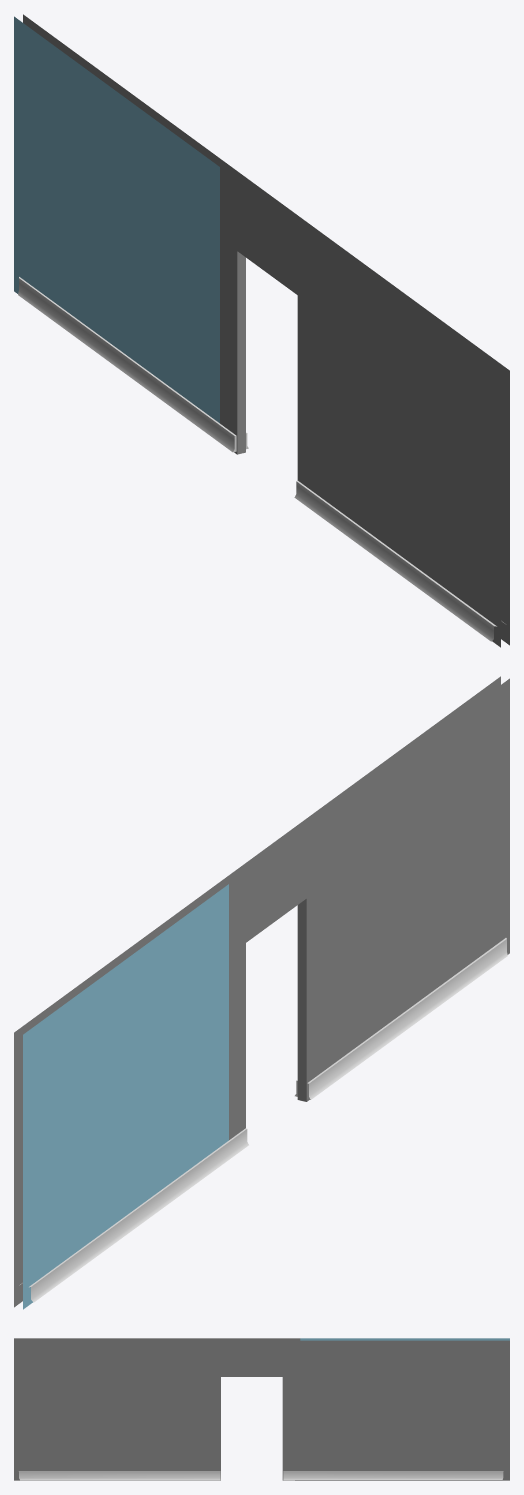
Rendered from FLAT_wall_01.FBX.
3 views of the same model, one above another, from view 1: azimuth 30°, elevation 25°; view 2: azimuth 150°, elevation 25°; view 3: azimuth 270°, elevation 25° (orthographic). The views are drawn at different scales.
Parts seen in each view (by area): view 1: FLAT_wall_01, FLAT_wall_01_plinthe; view 2: FLAT_wall_01, FLAT_wall_01_plinthe; view 3: FLAT_wall_01, FLAT_wall_01_plinthe.
Boxes of the visible parts, x1,y1,x2,y2 form: FLAT_wall_01: (14, 14, 509, 647); FLAT_wall_01_plinthe: (18, 277, 504, 641); FLAT_wall_01: (14, 676, 509, 1309); FLAT_wall_01_plinthe: (19, 938, 507, 1302); FLAT_wall_01: (14, 1338, 509, 1480); FLAT_wall_01_plinthe: (19, 1471, 503, 1480).
Bounding box in the file's own units: 26.49 × 421 × 1351.
